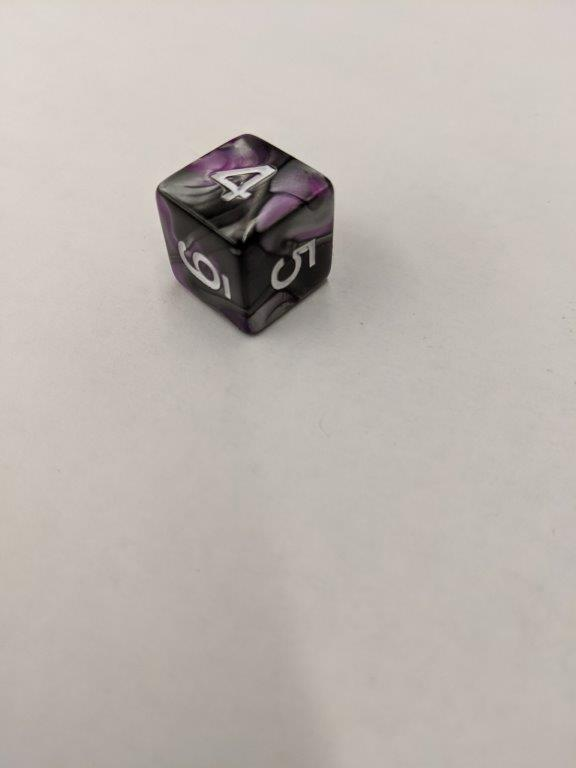d6-4: (154, 130, 338, 336)
